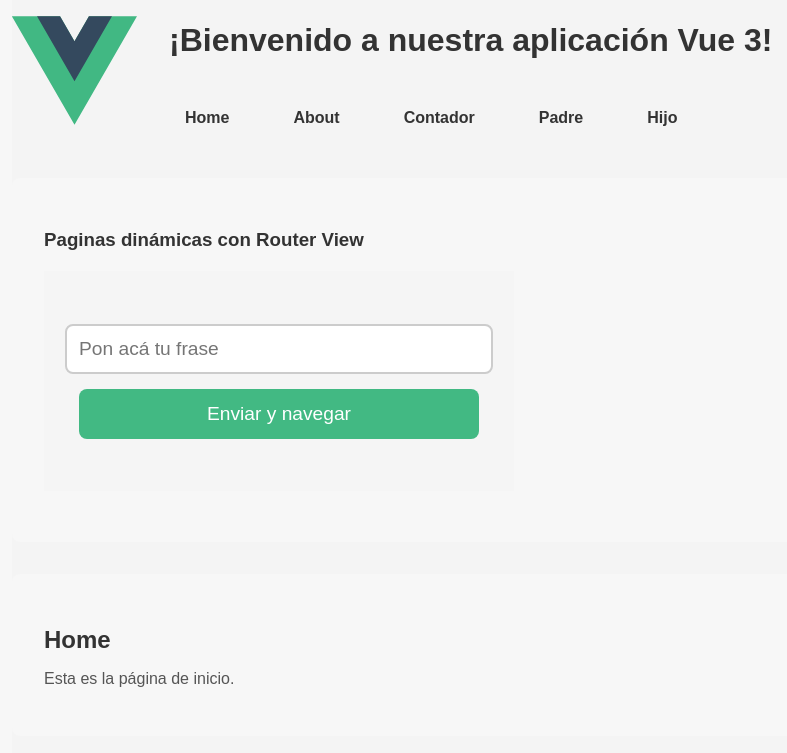
it: Comunicación entre Parent y Child › Debería enviar texto desde el Child al Parent
The width and height of the screenshot is (787, 753).
# Escribe texto en el campo de entrada del componente Child
Type "Texto de prueba" into the field with placeholder "Pon acá tu frase" at (279,349), box [65,324,493,374]
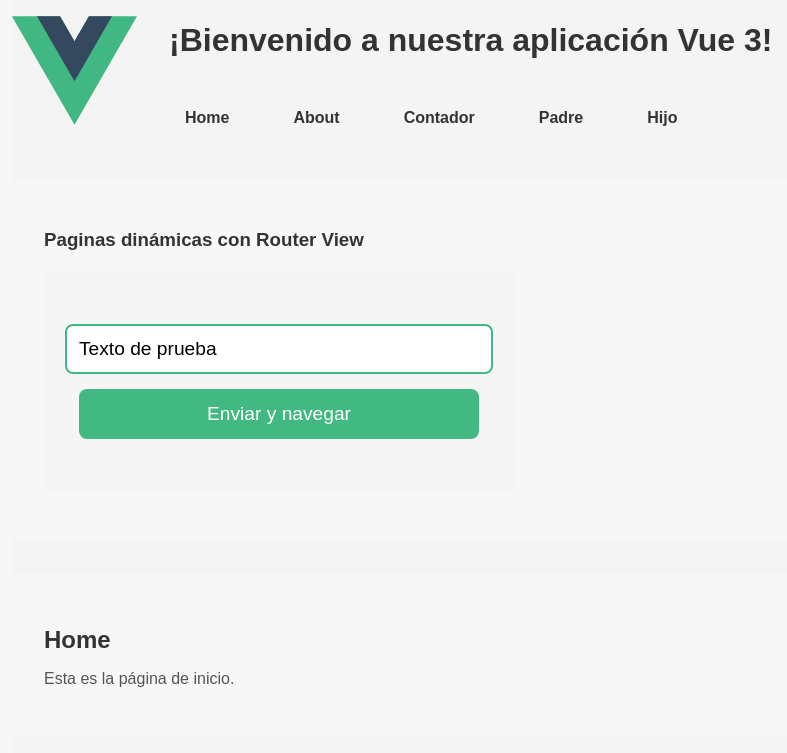
# Simula el clic en el botón para enviar el texto al Parent
Click the button "Enviar y navegar" at (279,414), box [79,389,479,439]
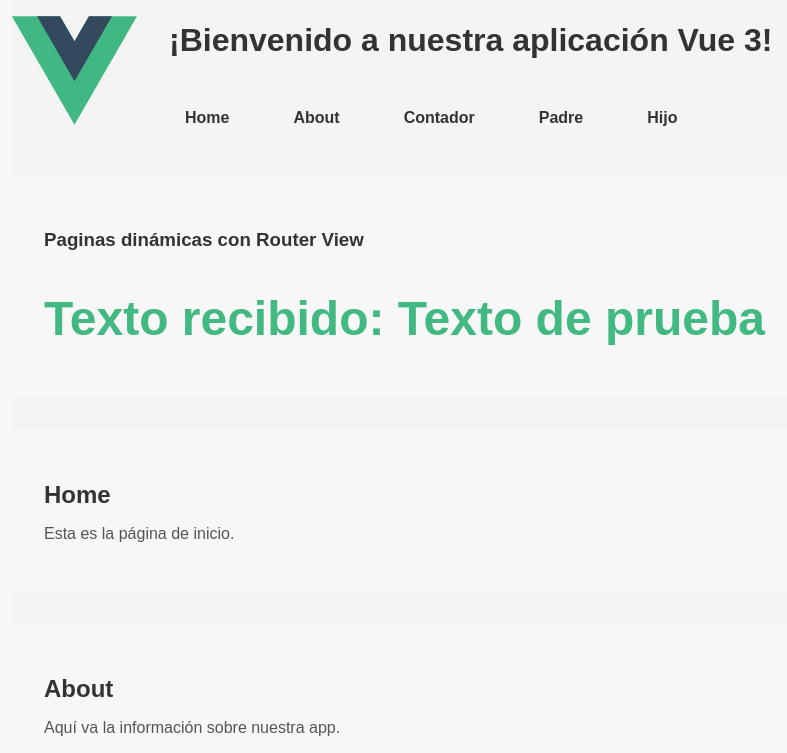
Result: the heading with id "texto-recibido" reads "Texto recibido: Texto de prueba" at [44,292,765,345]
